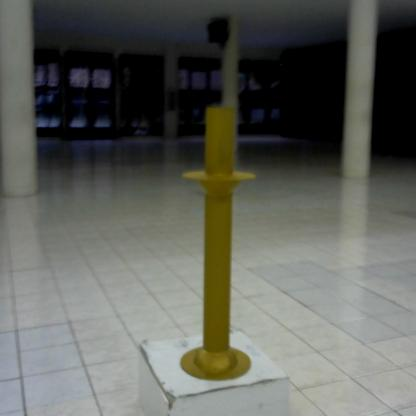pole: (175, 101, 260, 388)
